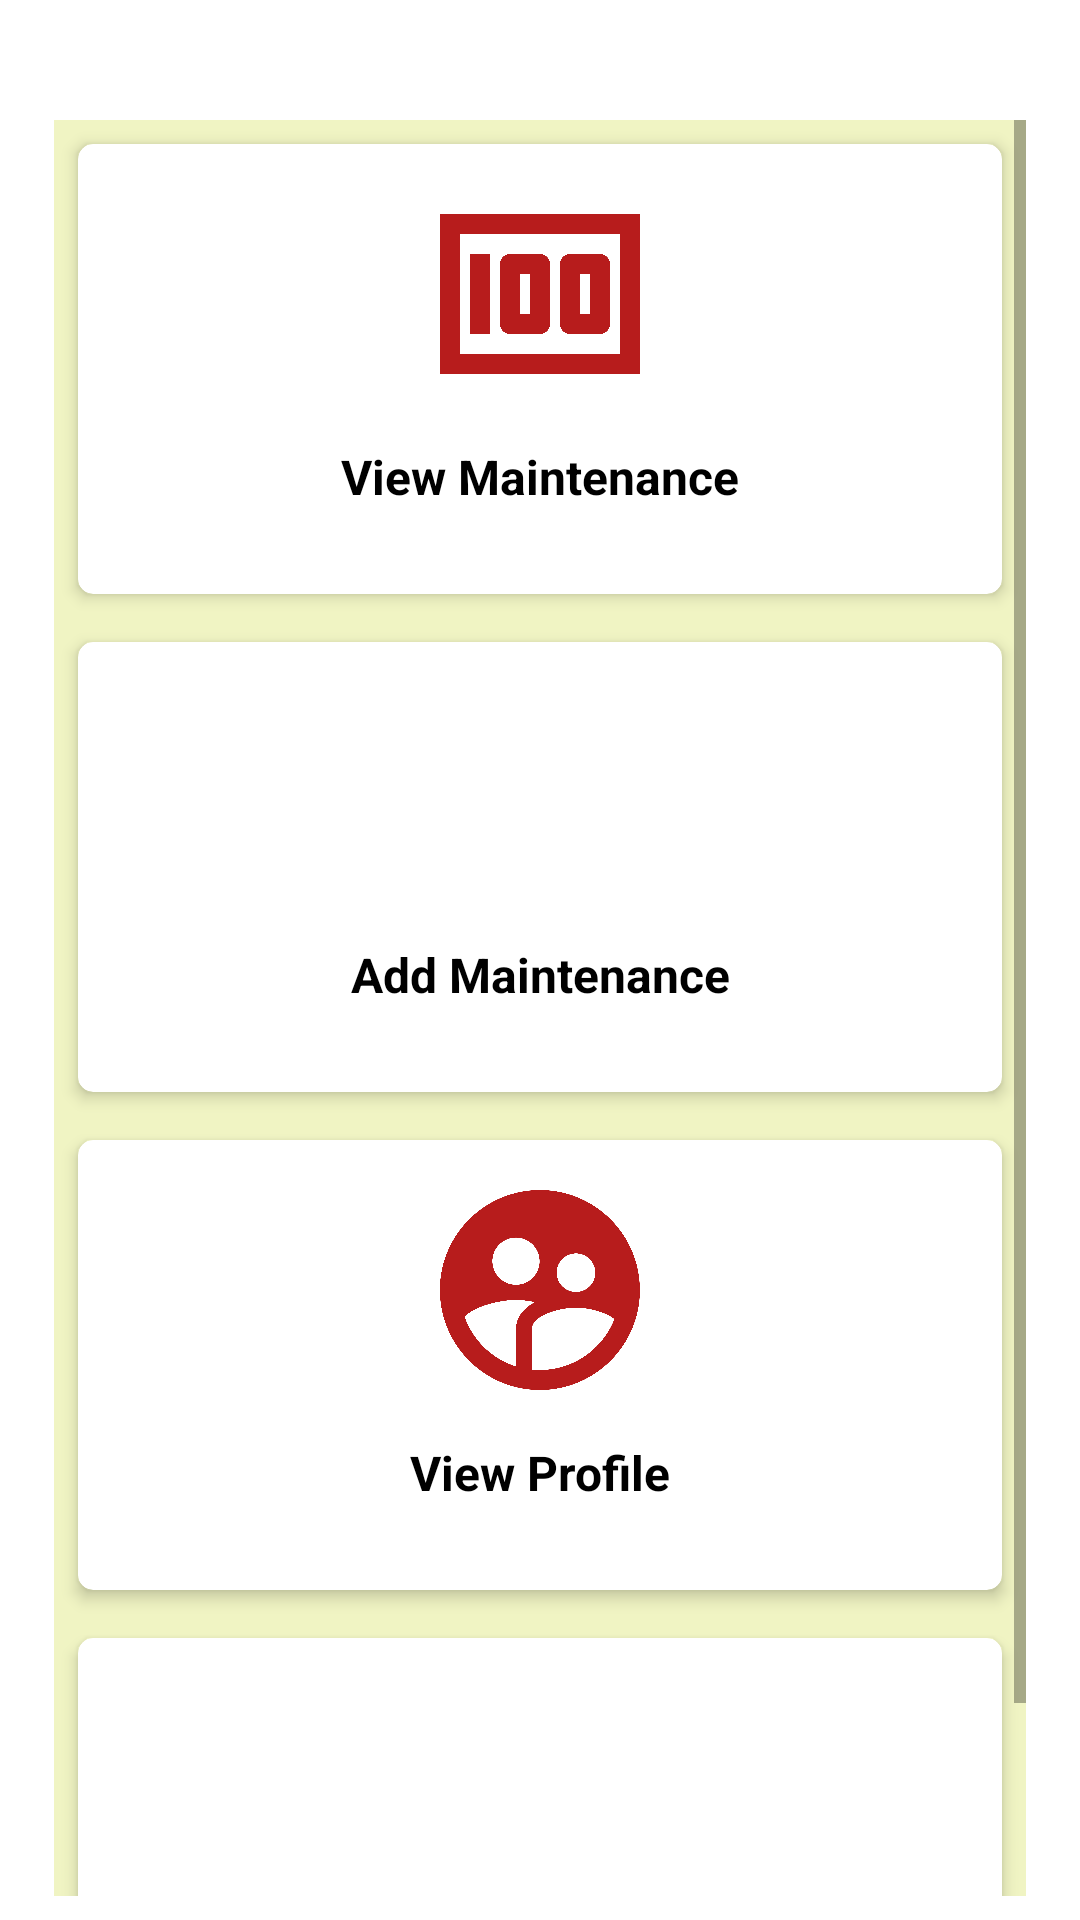

Named icons in this screenshot (1080 × 1920) and their centers, [x,y]:
username: [540,1290]
